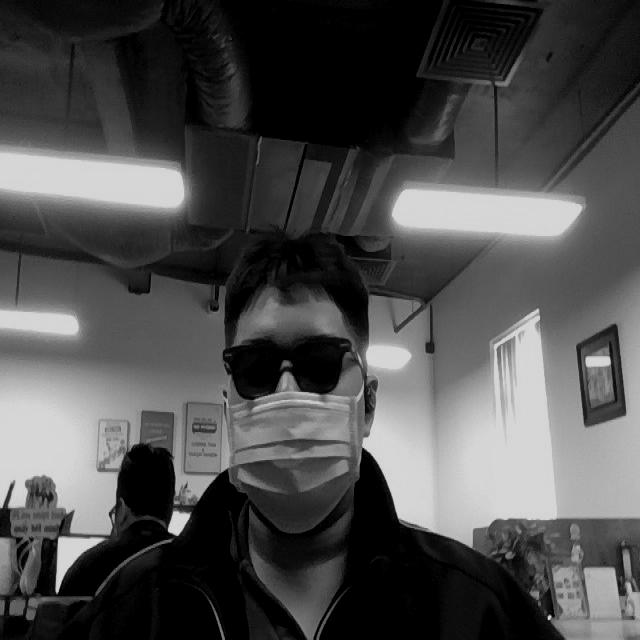fake: (223, 392, 360, 535), (221, 337, 359, 387)
